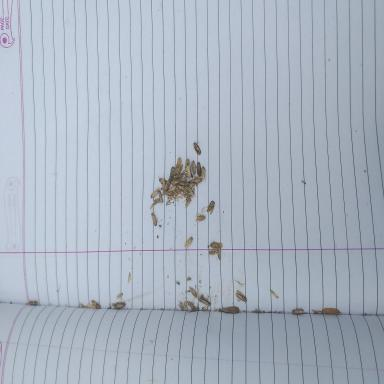pbw: (235, 289, 247, 302), (197, 295, 211, 306), (192, 141, 202, 155), (207, 200, 214, 215), (291, 307, 304, 315), (190, 159, 196, 176), (90, 299, 101, 308), (210, 242, 224, 249), (189, 286, 197, 298), (150, 213, 157, 226), (186, 300, 195, 310), (150, 189, 160, 198), (185, 236, 193, 247), (208, 250, 222, 256), (190, 177, 202, 184), (158, 178, 170, 185), (173, 172, 183, 180), (176, 164, 184, 174), (195, 214, 205, 222), (113, 302, 125, 308), (184, 190, 194, 197), (201, 166, 206, 180), (158, 191, 163, 204), (197, 161, 201, 177), (185, 198, 191, 208), (164, 180, 170, 190), (164, 190, 174, 196), (167, 186, 176, 192), (116, 292, 123, 299), (153, 198, 161, 204), (179, 181, 188, 186), (176, 185, 185, 190), (171, 180, 180, 185), (188, 182, 195, 188), (27, 301, 37, 305)
